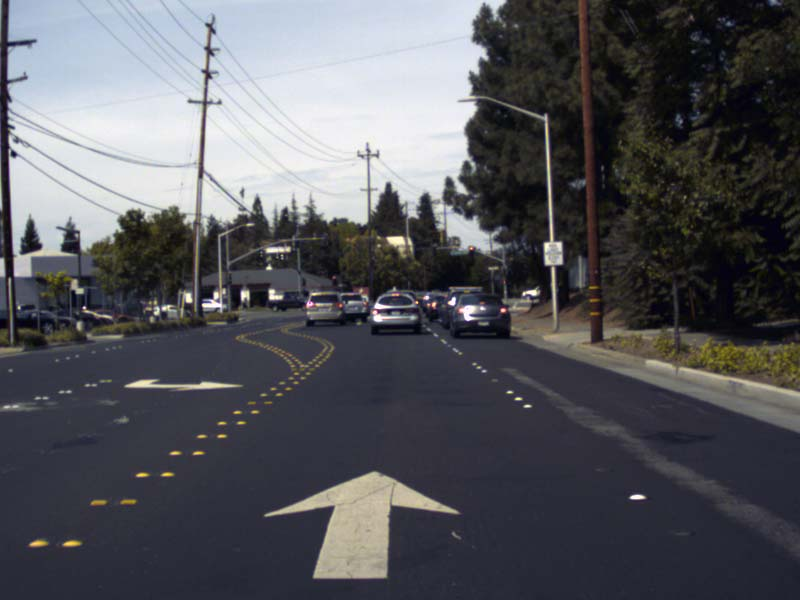Red: (332, 275, 337, 284), (469, 246, 473, 256)
